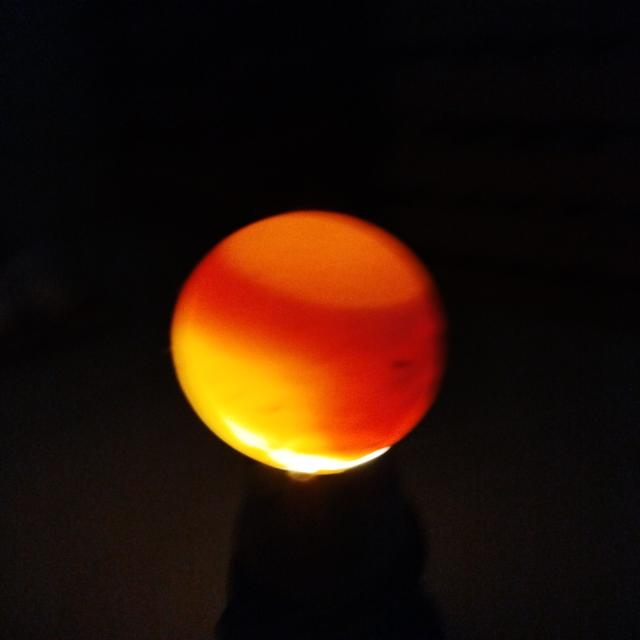Area Infectada: (429, 294, 449, 395)
